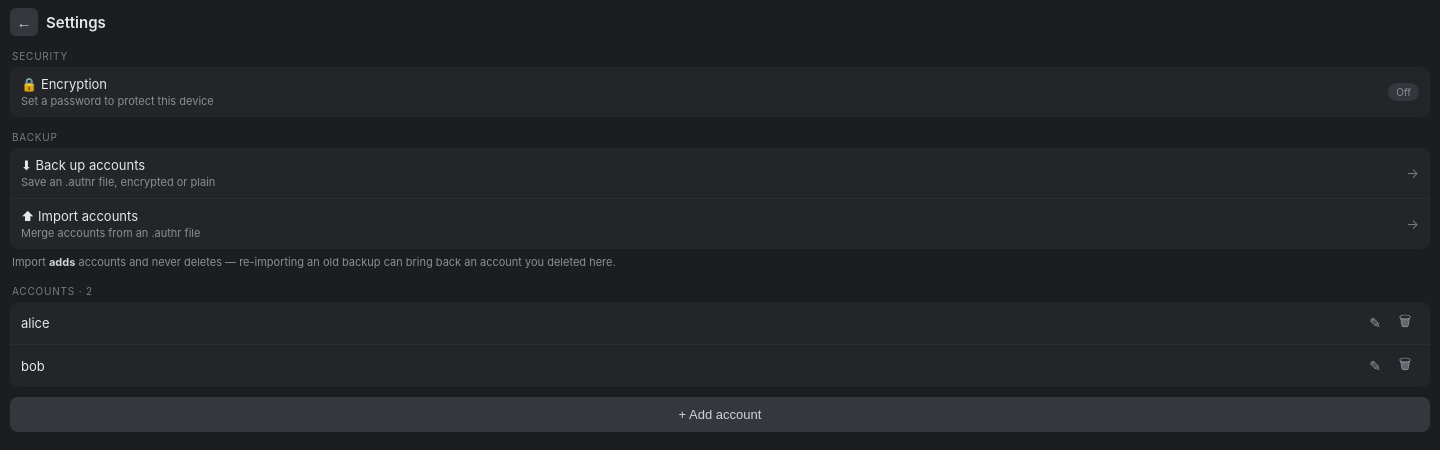
Settings manage page (§9.1 scenarios 5–10) › renames a row via a focused input, then re-fetches the list
Expected: the text "alice" is shown, top-left (21, 315), bottom-right (50, 331)
Click the button titled "Rename" in the row of "alice". click: (1375, 323)
box: top-left (1361, 310), bottom-right (1389, 336)
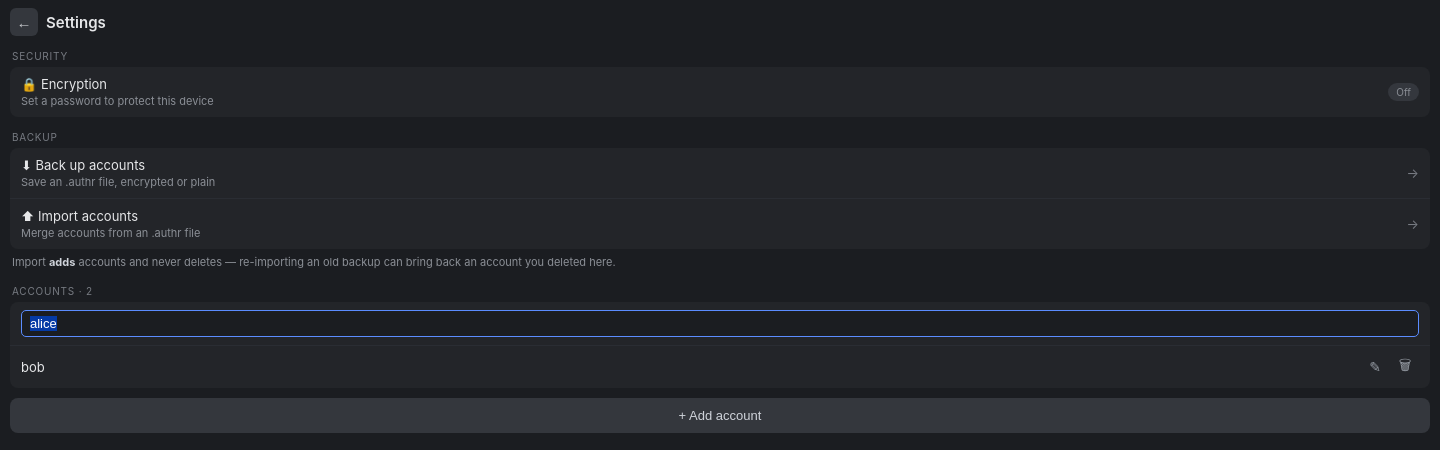
Now the field with class "rename-input" is shown
Now the field with class "rename-input" holds "alice"
Replace the text in the field with class "rename-input" with "alice-2". click: (720, 323)
box: top-left (21, 310), bottom-right (1419, 337)
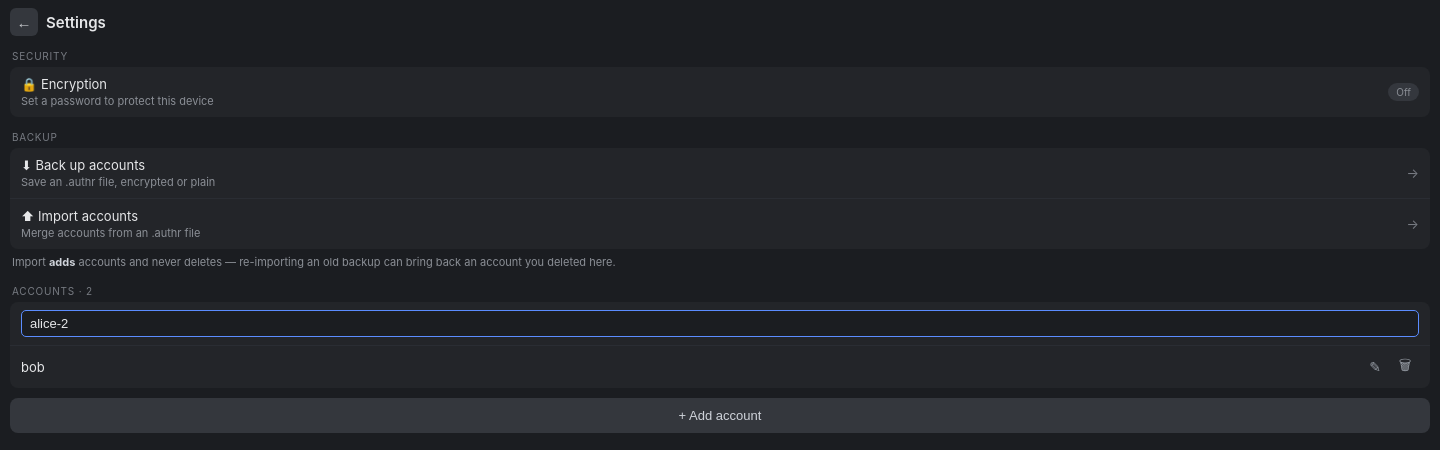
Press Enter in the field with class "rename-input", box top-left (21, 310), bottom-right (1419, 337)
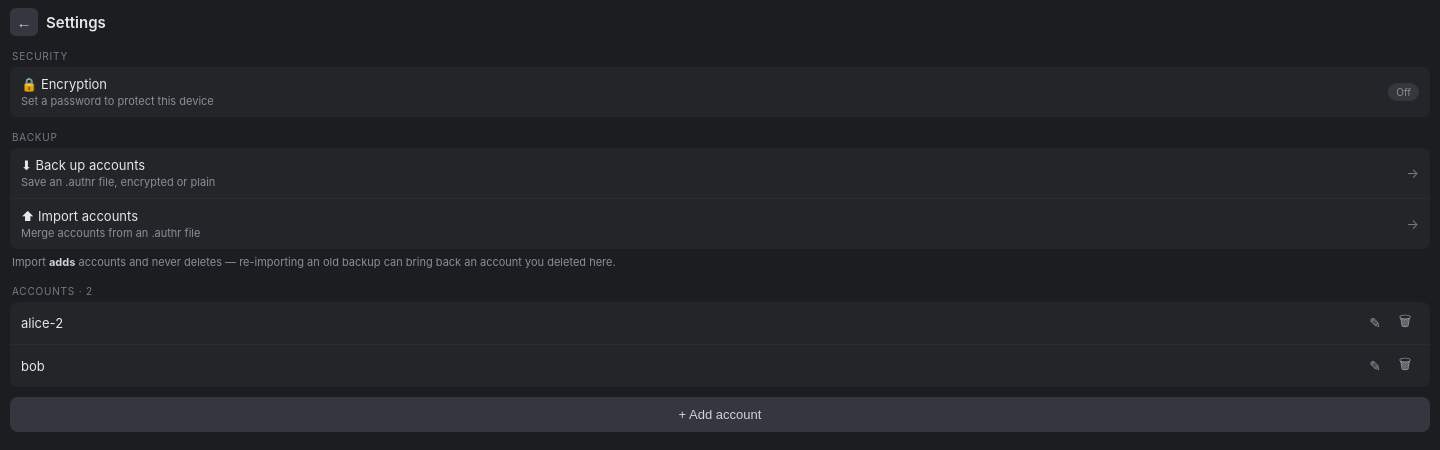
Now the text "alice-2" is shown, box top-left (21, 315), bottom-right (63, 331)
